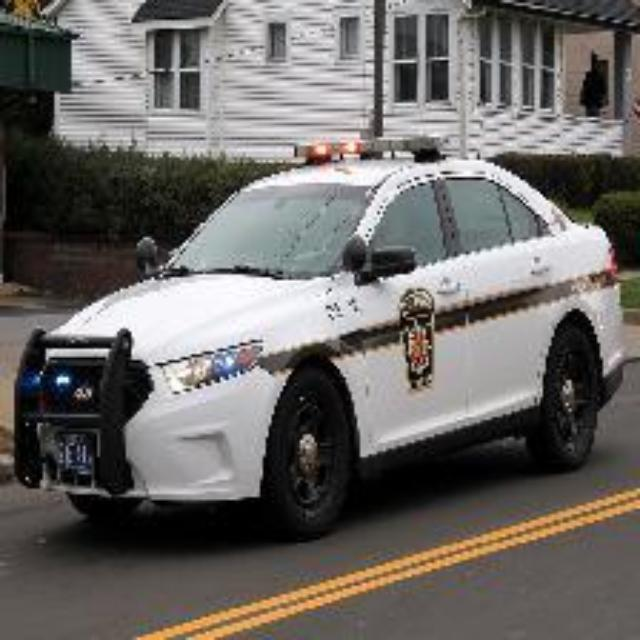emergency: (22, 138, 596, 504)
